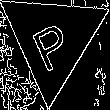P_NW: (28, 9, 78, 70)
